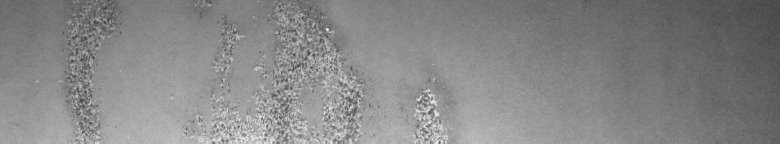hc: (212, 8, 442, 136)
